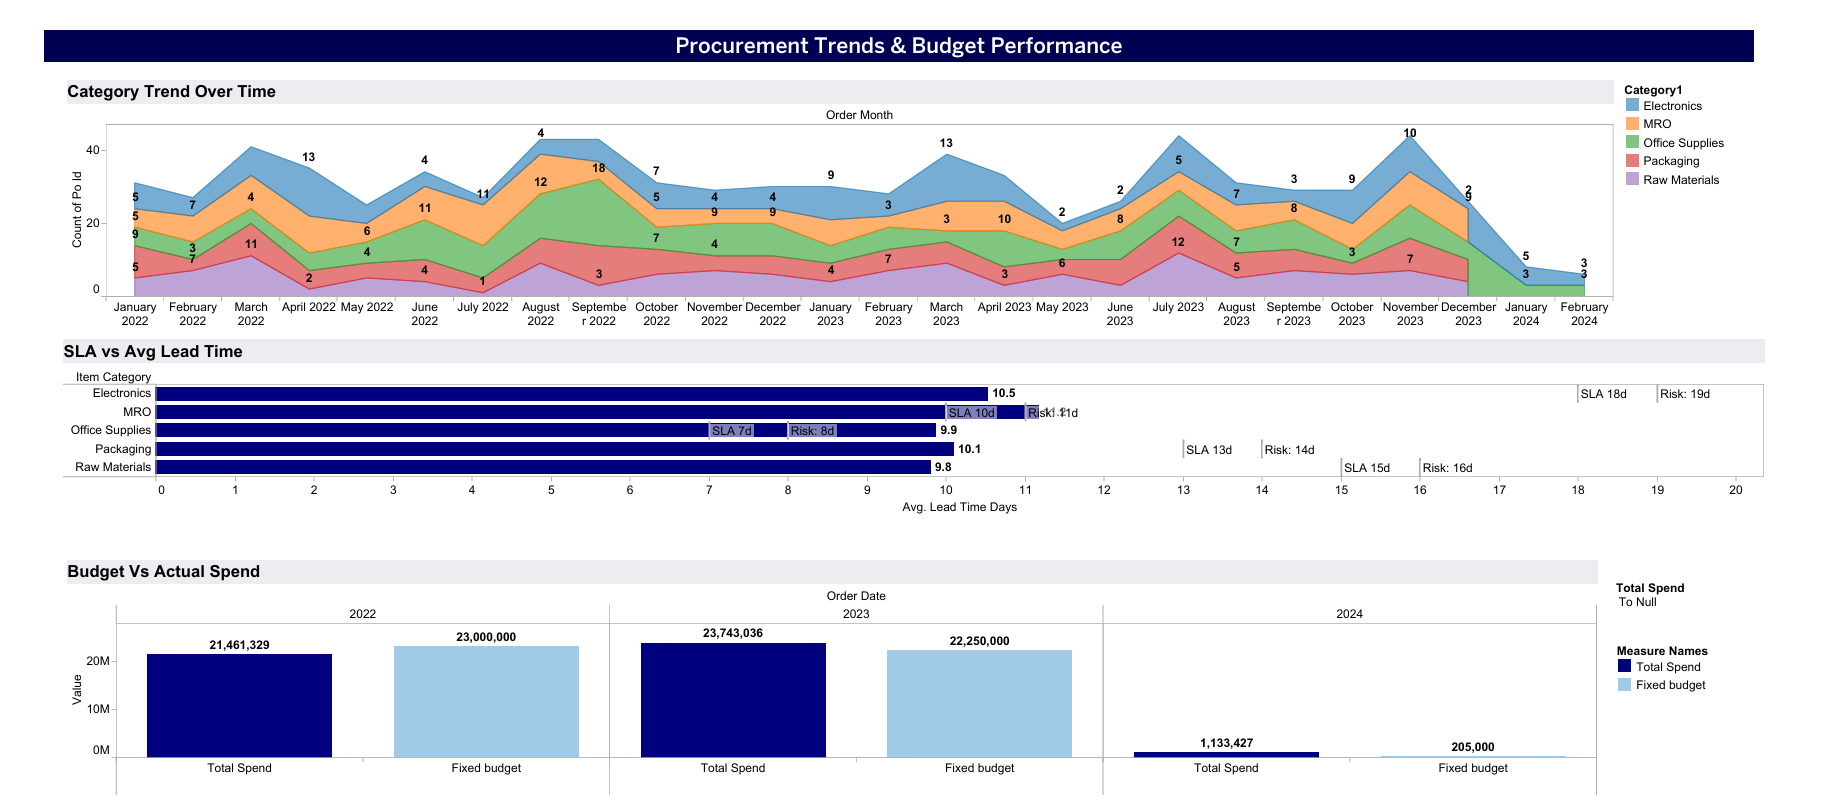

The page's visual inventory and layout, read from the dashboard file:
{"tool":"tableau","page":{"name":"Dashboard 2","canvas":[1000,1000],"units":"permille","ordinal":1},"visuals":[{"type":"text","box":[15.1,15.3,965,51.7]},{"type":"worksheet","title":"Sheet 9","mark":"Bar","rows":["Supplier"],"cols":["Lead_Time_Days"],"box":[12.7,90.5,421.2,453.6]},{"type":"worksheet","title":"Sheet 12","mark":"GanttBar","cols":["Item_Category"],"box":[459.9,90.5,522,438.3]},{"type":"legend","title":"Sheet 10","param":"[federated.1jhp7oa0ofrbhz1gift5g0305rtj].[:Measure Names]","box":[450.1,577,91.6,65.8]},{"type":"worksheet","title":"Sheet 7","mark":"Automatic","rows":["Supplier"],"box":[543.8,577,436.9,367.8]},{"type":"worksheet","title":"Sheet 10","mark":"Bar","rows":["Total_Spend"],"cols":["Item_Category"],"box":[7.1,579.3,428.1,407.8]}]}

Visuals, with their boxes on the dashboard's canvas, which has no fixed pixel size, in thousandths of its width and height (x1, y1, x2, y2). These are canvas units, not pixel positions in the 1826x811 screenshot, which may show the page scaled, cropped or inside an application window:
text: {"left": 15, "top": 15, "right": 980, "bottom": 67}
"Sheet 9" worksheet (Bar marks): {"left": 13, "top": 90, "right": 434, "bottom": 544}
"Sheet 12" worksheet (GanttBar marks): {"left": 460, "top": 90, "right": 982, "bottom": 529}
"Sheet 10" legend: {"left": 450, "top": 577, "right": 542, "bottom": 643}
"Sheet 7" worksheet: {"left": 544, "top": 577, "right": 981, "bottom": 945}
"Sheet 10" worksheet (Bar marks): {"left": 7, "top": 579, "right": 435, "bottom": 987}
